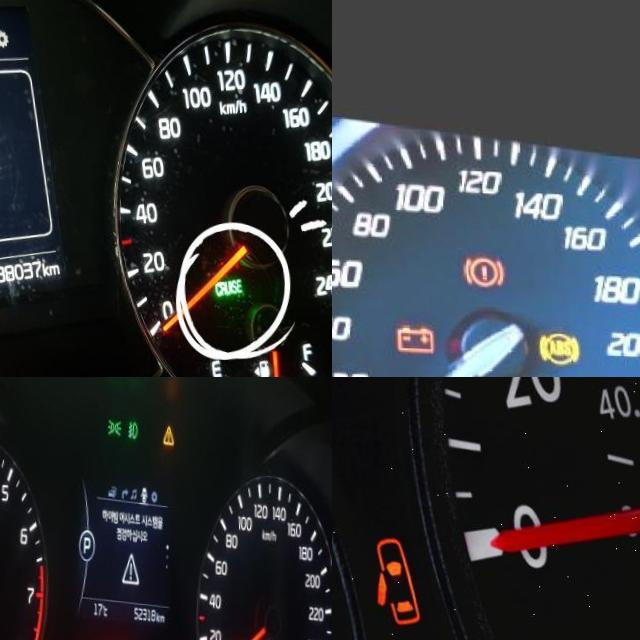Central Warning lamp: (158, 420, 172, 442)
FrontFogLight: (123, 415, 135, 437)
SideLamp: (102, 414, 119, 434)
